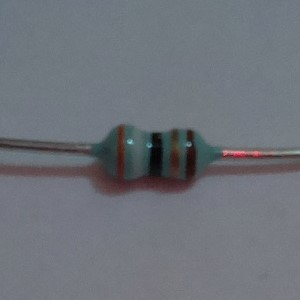black_band: (147, 130, 164, 178)
brown_band: (185, 128, 198, 181)
gold_band: (169, 126, 181, 181)
orange_band: (114, 123, 127, 183)
white_band: (131, 124, 145, 181)
